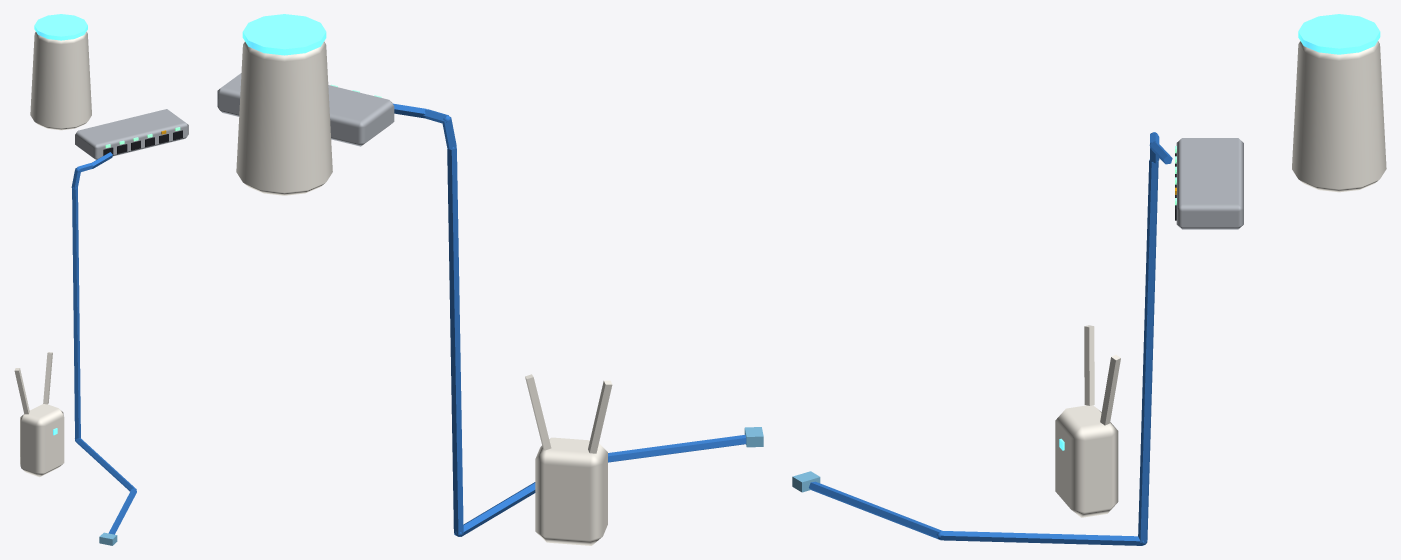
File: station_transport_ausstattung_1_3.glb
The picture shows the model from 3 angles, left to right: view 1: azimuth 30°, elevation 25°; view 2: azimuth 150°, elevation 25°; view 3: azimuth 270°, elevation 25°; orthographic projection. The views are drawn at different scales.
Visible parts, largest first — view 1: station_transport_ausstattung_1_3; view 2: station_transport_ausstattung_1_3; view 3: station_transport_ausstattung_1_3.
Boxes of the visible parts, x1,y1,x2,y2 form: station_transport_ausstattung_1_3: (14, 14, 188, 545); station_transport_ausstattung_1_3: (217, 14, 763, 545); station_transport_ausstattung_1_3: (792, 14, 1386, 545).
Bounding box in the file's own units: 0.6638 × 1.09 × 1.06.
